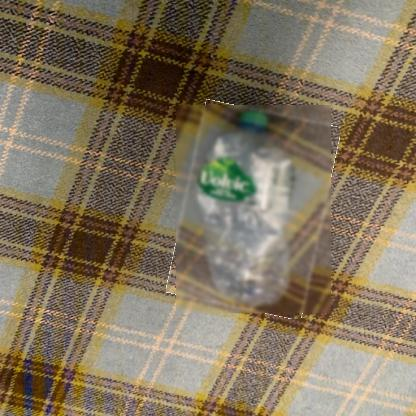plastic-bottles: (177, 106, 333, 315)
